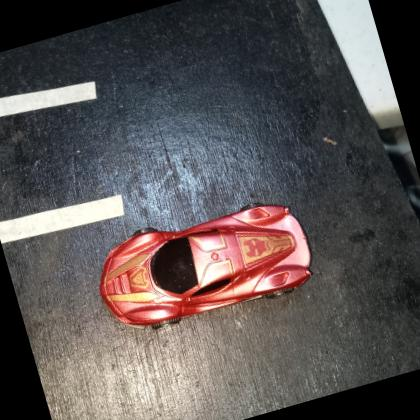Car: (84, 184, 321, 344)
